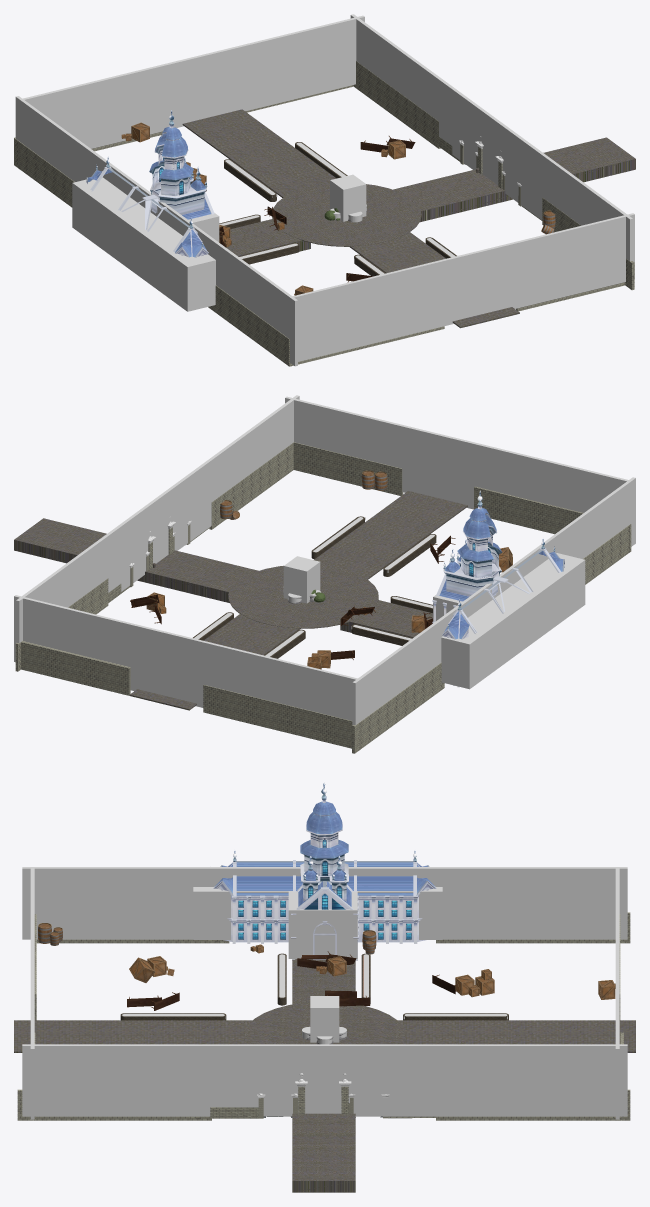
File: academy.glb
3 renders of one model, top to bottom at view 1: azimuth 30°, elevation 25°; view 2: azimuth 150°, elevation 25°; view 3: azimuth 270°, elevation 25°, orthographic. The views are drawn at different scales.
Visible parts, largest first — view 1: physics_cube.014, physics_cube.013, physics_cube.011, physics_cube.009, physics_cube.012, road_line.001, road_line, road_circle, R_Material.004_0, wall, wall.007, wall.006 (+6 smaller); view 2: physics_cube.013, physics_cube.014, physics_cube.011, physics_cube.009, physics_cube.012, road_line.001, road_line, road_circle, R_Material.004_0, wall.003, wall.004, wall.002 (+8 smaller); view 3: physics_cube.011, physics_cube.012, R_Material.004_0, road_line.001, road_line, road_circle, physics_cube.008, physics_cube.009, physics_cube, physics_cube.013, physics_cube.014, wall.005 (+7 smaller).
Boxes of the visible parts, <box> form: physics_cube.014: <box>292,213,634,361</box>; physics_cube.013: <box>23,15,364,148</box>; physics_cube.011: <box>350,14,632,261</box>; physics_cube.009: <box>72,177,215,311</box>; physics_cube.012: <box>15,96,297,366</box>; road_line.001: <box>182,109,519,328</box>; road_line: <box>226,137,635,256</box>; road_circle: <box>272,183,421,246</box>; R_Material.004_0: <box>86,110,214,257</box>; wall: <box>353,61,440,148</box>; wall.007: <box>208,285,287,364</box>; wall.006: <box>14,137,74,207</box>; physics_cube.013: <box>14,595,357,720</box>; physics_cube.014: <box>285,396,628,512</box>; physics_cube.011: <box>16,395,299,643</box>; physics_cube.009: <box>441,553,585,689</box>; physics_cube.012: <box>352,477,635,725</box>; road_line.001: <box>129,491,467,710</box>; road_line: <box>14,518,432,637</box>; road_circle: <box>228,565,378,628</box>; R_Material.004_0: <box>432,490,564,687</box>; wall.003: <box>203,685,360,750</box>; wall.004: <box>21,641,130,695</box>; wall.002: <box>293,442,403,495</box>; physics_cube.011: <box>22,1044,627,1116</box>; physics_cube.012: <box>22,867,627,939</box>; R_Material.004_0: <box>213,782,436,960</box>; road_line.001: <box>14,1020,635,1052</box>; road_line: <box>292,959,355,1192</box>; road_circle: <box>244,1002,405,1044</box>; physics_cube.008: <box>288,891,357,958</box>; physics_cube.009: <box>193,887,442,939</box>; physics_cube: <box>310,996,339,1042</box>; physics_cube.013: <box>615,868,619,1119</box>; physics_cube.014: <box>30,868,34,1119</box>; wall.005: <box>17,1089,211,1120</box>.
Size of the model in its own units: 137 by 42.14 by 138.
21 materials, 18 textured.
